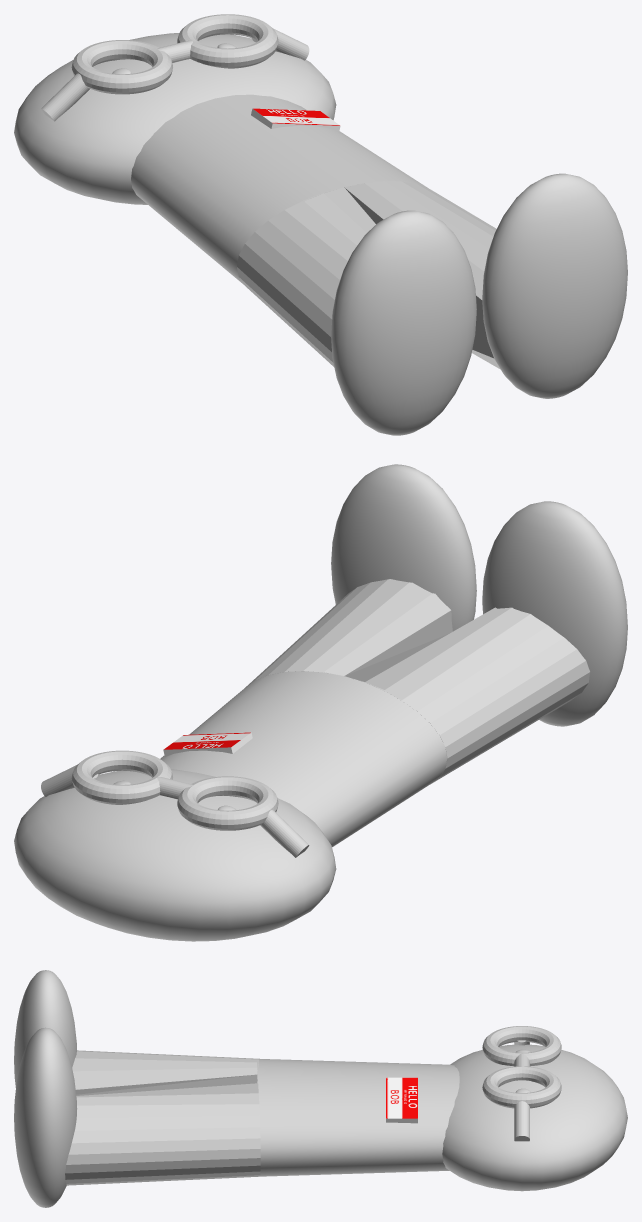
Rendered from guy.fbx.
3 renders of one model, top to bottom at view 1: azimuth 30°, elevation 25°; view 2: azimuth 150°, elevation 25°; view 3: azimuth 270°, elevation 25°, orthographic. The views are drawn at different scales.
Parts seen in each view (by area): view 1: Boots, Body, Head, Legs, Glasses, Cube; view 2: Head, Boots, Legs, Body, Glasses, Cube; view 3: Legs, Body, Head, Boots, Glasses, Cube.
Part boxes in pixels (x1,y1,x2,y2): Boots: (331,173,627,435); Body: (131,94,428,284); Head: (14,33,336,204); Legs: (236,181,500,369); Glasses: (41,14,309,121); Cube: (251,108,340,131); Head: (14,769,336,941); Boots: (331,464,627,726); Legs: (245,579,590,784); Body: (160,671,447,847); Glasses: (41,750,309,857); Cube: (163,732,252,756); Legs: (65,1050,260,1185); Body: (257,1059,459,1176); Head: (442,1044,627,1191); Boots: (14,970,77,1207); Glasses: (482,1026,561,1141); Cube: (386,1077,417,1123).
Size of the model in its own units: 8.33 by 6 by 19.33.
1 material, 1 textured.
